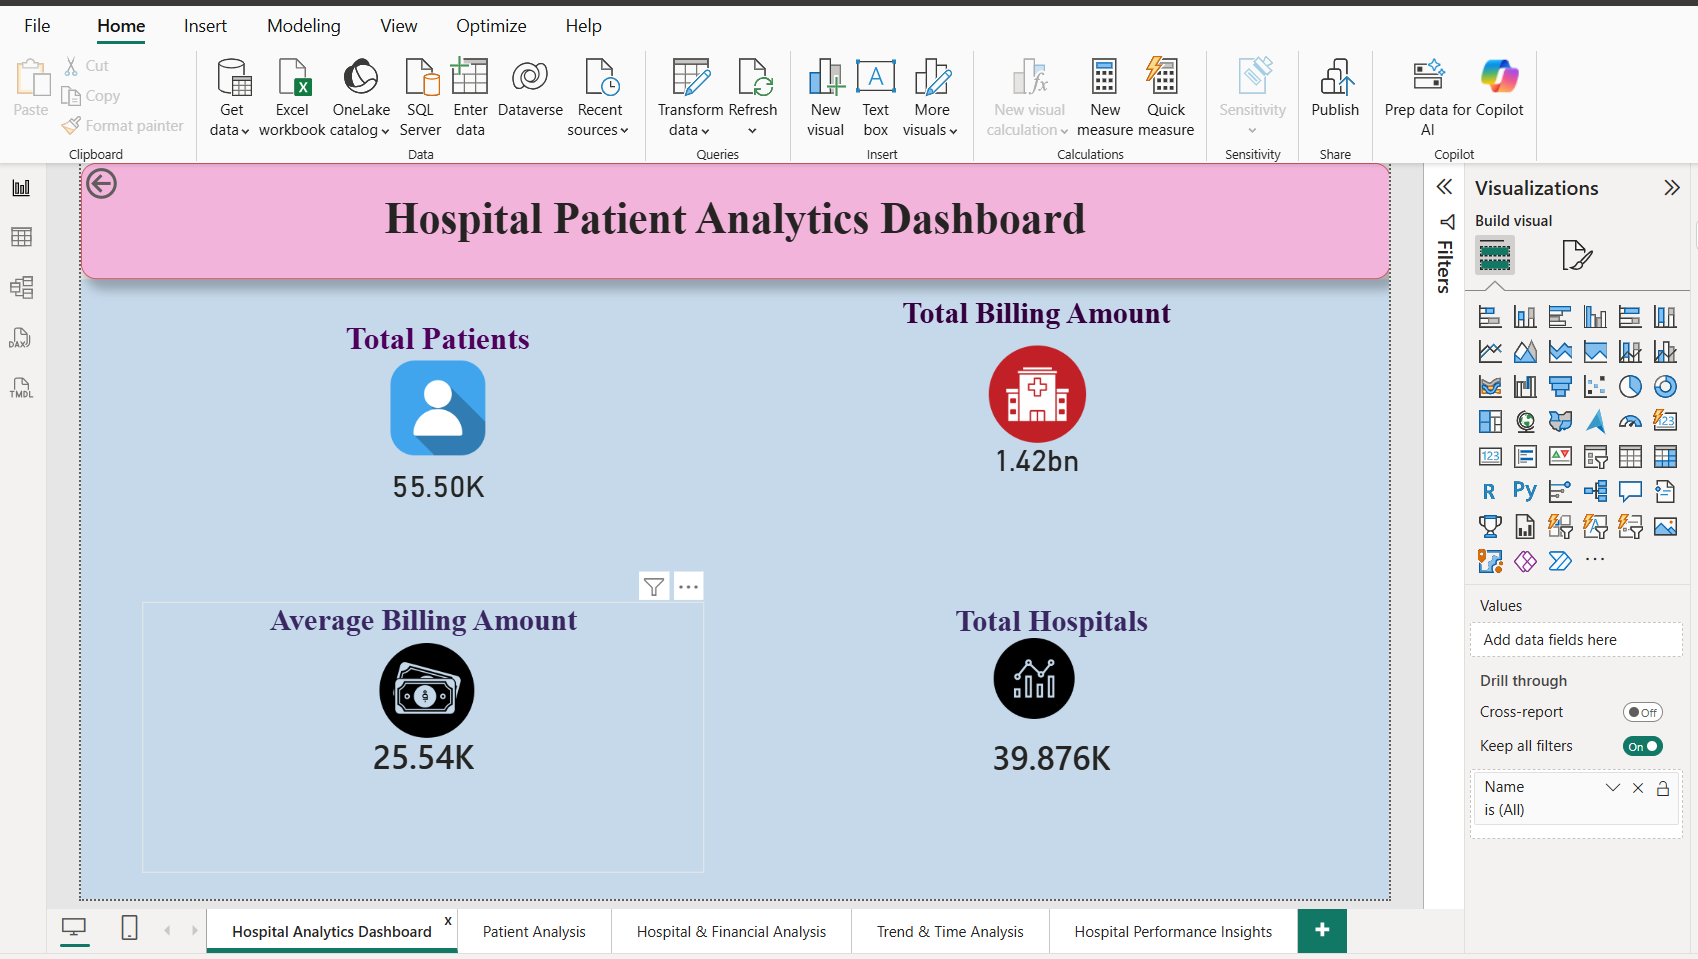

What the dashboard file says about the page in this screenshot:
{"tool":"powerbi","page":{"name":"Hospital Analytics Dashboard","canvas":[1280,720],"ordinal":0},"visuals":[{"type":"shape","box":[0,113.7,1280.3,606.5],"z":0},{"type":"textbox","box":[0,0,1280.6,113.4],"z":1000},{"type":"actionButton","box":[0,0,100,40],"z":2000},{"type":"card","title":"Total Billing Amount","fields":{"Values":["Sum(healthcare_dataset.Billing Amount)"]},"box":[639.5,129.6,590.6,287.4],"z":3000},{"type":"cardVisual","title":"Average Billing Amount","fields":{"Data":["Avg(healthcare_dataset.Billing Amount)"]},"box":[59.9,429.2,550.3,265.4],"z":4000},{"type":"cardVisual","title":"Total Hospitals","fields":{"Data":["Count(healthcare_dataset.Hospital)"]},"box":[654.2,430.4,590.6,265.4],"z":5000},{"type":"image","box":[881.7,178.5,107.6,95.4],"z":6000},{"type":"image","box":[277.6,469.6,121.1,92.9],"z":7000},{"type":"image","box":[881.7,464.7,101.5,79.5],"z":8000},{"type":"card","title":"Total Patients","fields":{"Values":["CountNonNull(healthcare_dataset.Name)"]},"box":[88,154.1,522.1,287.4],"z":9000},{"type":"image","box":[255.6,193.2,187.1,92.9],"z":10000}]}

Visuals, with their boxes on the page's 1280x720 design canvas (x1, y1, x2, y2). These are canvas units, not pixel positions in the 1698x959 screenshot, which may show the page scaled, cropped or inside an application window:
shape: 0:114:1280:720
textbox: 0:0:1281:113
actionButton: 0:0:100:40
"Total Billing Amount" card: 640:130:1230:417
"Average Billing Amount" cardVisual: 60:429:610:695
"Total Hospitals" cardVisual: 654:430:1245:696
image: 882:178:989:274
image: 278:470:399:562
image: 882:465:983:544
"Total Patients" card: 88:154:610:442
image: 256:193:443:286
